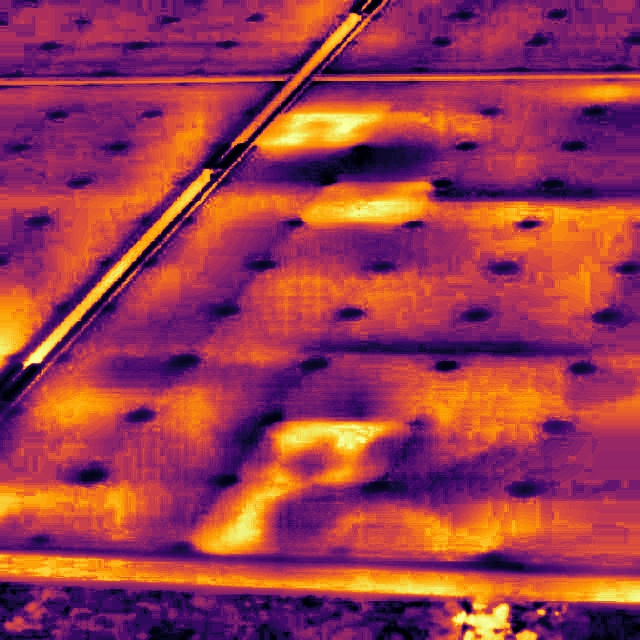Hotspot: (245, 421, 388, 483), (305, 182, 431, 225), (260, 111, 386, 149)
Moderate: (303, 182, 431, 223)
Moderate-High: (242, 418, 386, 481), (258, 109, 385, 148)
